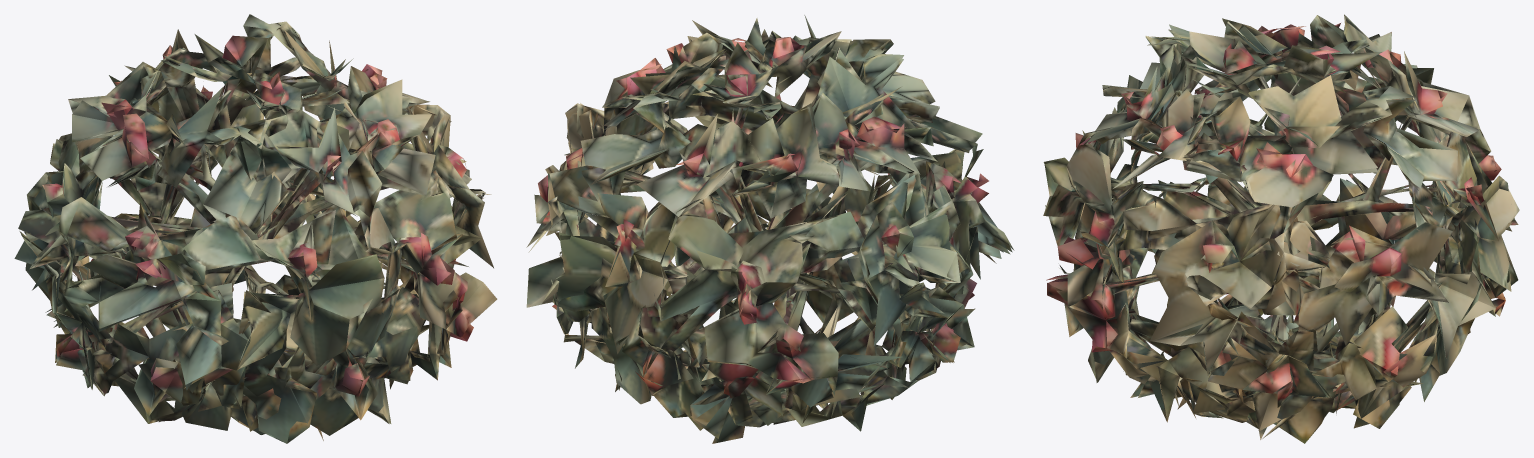
The model's file is Env_Bush_Berry.fbx.
The picture shows the model from 3 angles, left to right: view 1: azimuth 30°, elevation 25°; view 2: azimuth 150°, elevation 25°; view 3: azimuth 270°, elevation 25°; orthographic projection.
Parts seen in each view (by area): view 1: Env_Bush_Berry; view 2: Env_Bush_Berry; view 3: Env_Bush_Berry.
Part boxes in pixels (bbox=[...]): Env_Bush_Berry: bbox=[14, 14, 497, 443]; Env_Bush_Berry: bbox=[526, 15, 1014, 443]; Env_Bush_Berry: bbox=[1043, 14, 1519, 443].
Size of the model in its own units: 0.6074 by 0.5 by 0.5902.
Materials: 1 (1 with a texture image).
